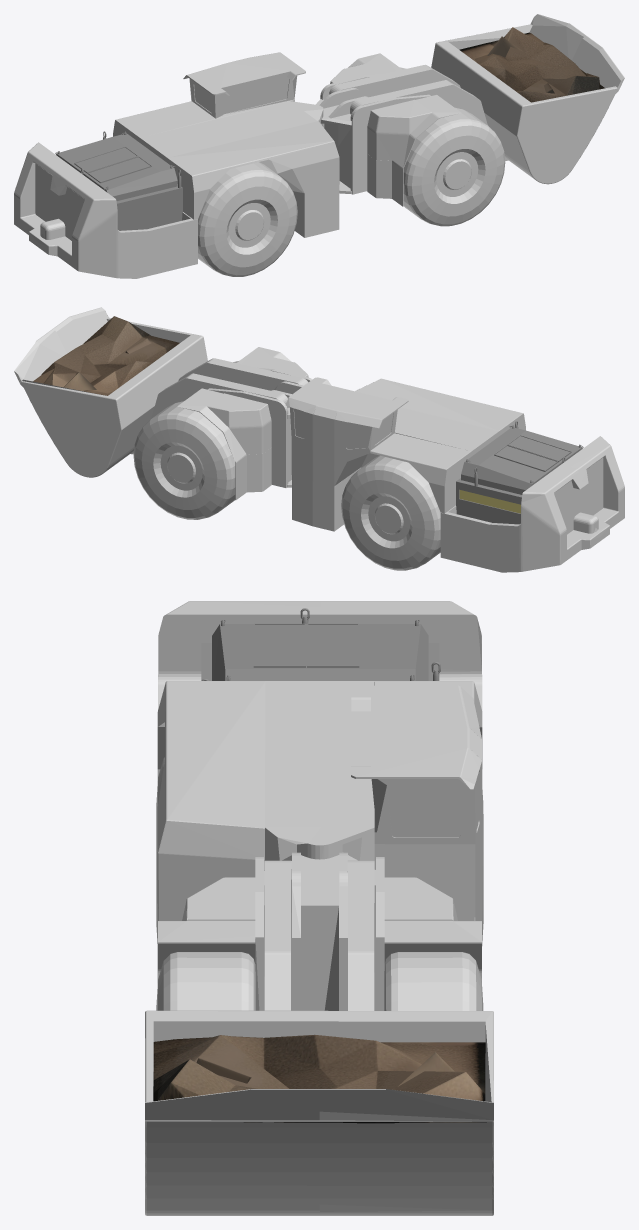
File: scooptram_charging.FBX
The picture shows the model from 3 angles, top to bottom: view 1: azimuth 30°, elevation 25°; view 2: azimuth 150°, elevation 25°; view 3: azimuth 270°, elevation 25°; orthographic projection. The views are drawn at different scales.
Parts seen in each view (by area): view 1: Scooptram_GEO_GRP_1, Battery_004, ScoopTram_Rubble001; view 2: Scooptram_GEO_GRP_1, Battery_004, ScoopTram_Rubble001, BatteryCharging; view 3: Scooptram_GEO_GRP_1, ScoopTram_Rubble001, Battery_004.
Boxes of the visible parts, <box> form: Scooptram_GEO_GRP_1: <box>14,14,624,278</box>; Battery_004: <box>55,131,182,230</box>; ScoopTram_Rubble001: <box>459,27,604,102</box>; Scooptram_GEO_GRP_1: <box>14,307,624,572</box>; Battery_004: <box>456,421,583,524</box>; ScoopTram_Rubble001: <box>33,316,179,395</box>; BatteryCharging: <box>459,490,520,513</box>; Scooptram_GEO_GRP_1: <box>145,601,493,1215</box>; ScoopTram_Rubble001: <box>153,1034,486,1123</box>; Battery_004: <box>201,608,440,680</box>.
Size of the model in its own units: 1.46 by 0.3711 by 0.4019.
